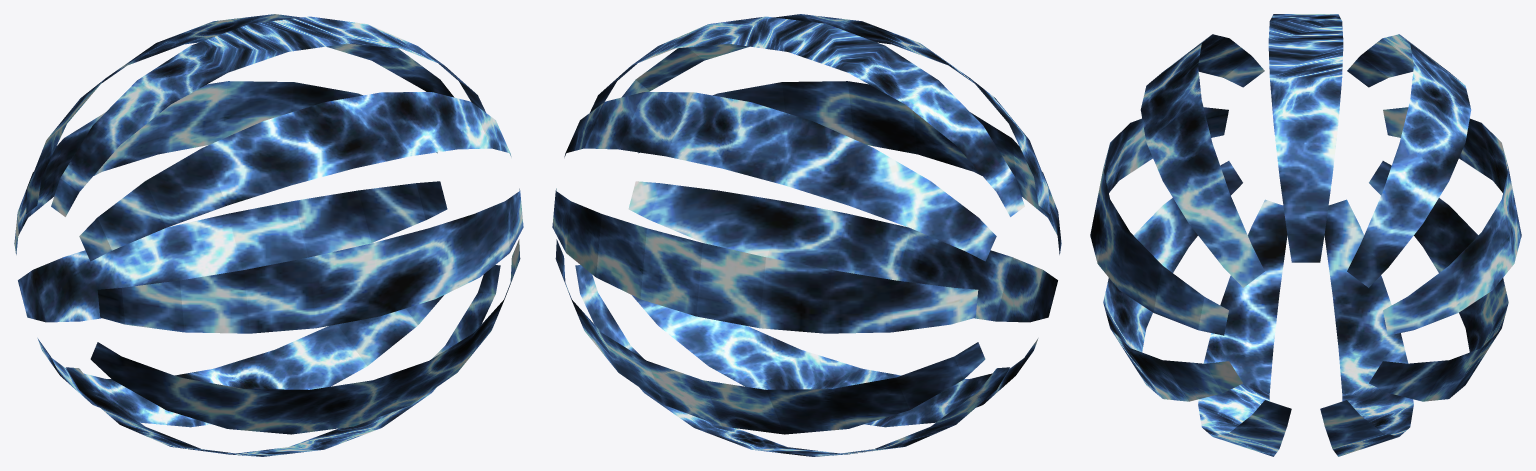
The model's file is abdomin_inner.dae.
3 renders of one model, left to right at view 1: azimuth 30°, elevation 25°; view 2: azimuth 150°, elevation 25°; view 3: azimuth 270°, elevation 25°, orthographic. The views are drawn at different scales.
Parts seen in each view (by area): view 1: Abdoment; view 2: Abdoment; view 3: Abdoment.
Boxes of the visible parts, bbox=[...] form: Abdoment: bbox=[14, 14, 523, 456]; Abdoment: bbox=[552, 14, 1061, 456]; Abdoment: bbox=[1090, 14, 1521, 456].
Size of the model in its own units: 1.11 by 1.01 by 0.9984.
1 material, 1 textured.
